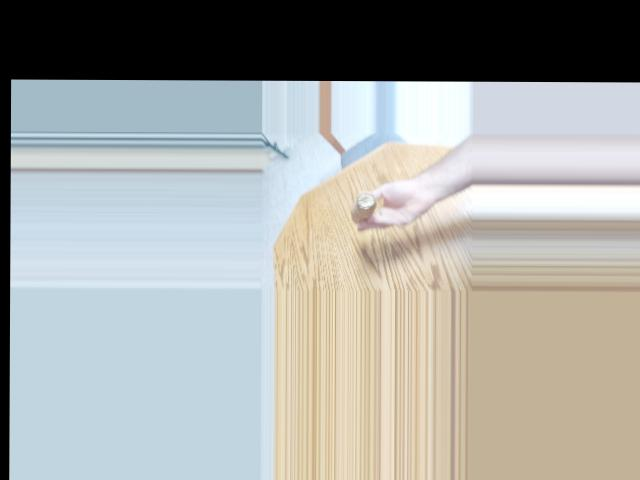sweet_potato: (346, 186, 384, 225)
